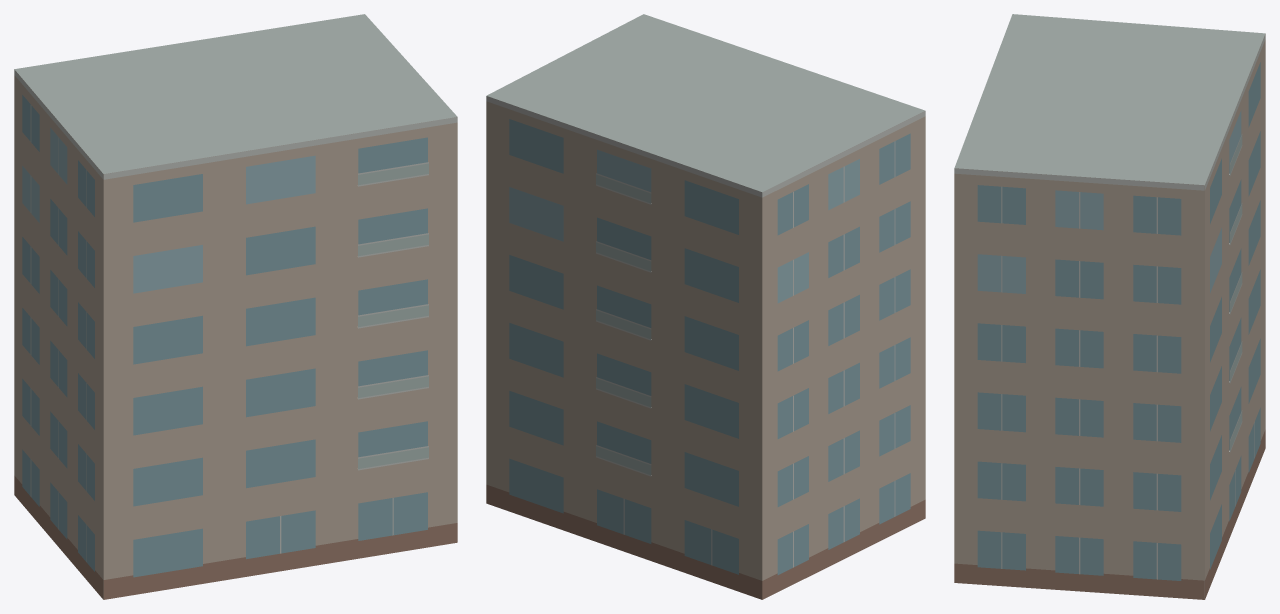
The model's file is survey-upis-32606413.glb.
3 views of the same model, side by side, from view 1: azimuth 30°, elevation 25°; view 2: azimuth 150°, elevation 25°; view 3: azimuth 270°, elevation 25° (orthographic). The views are drawn at different scales.
Parts seen in each view (by area): view 1: survey-upis-32606413.tmp; view 2: survey-upis-32606413.tmp; view 3: survey-upis-32606413.tmp.
Boxes of the visible parts, box(x1,y1,x2,y2) form: survey-upis-32606413.tmp: box(14, 14, 457, 599); survey-upis-32606413.tmp: box(486, 14, 925, 599); survey-upis-32606413.tmp: box(954, 14, 1265, 599).
Size of the model in its own units: 16.21 by 18.3 by 12.46.
